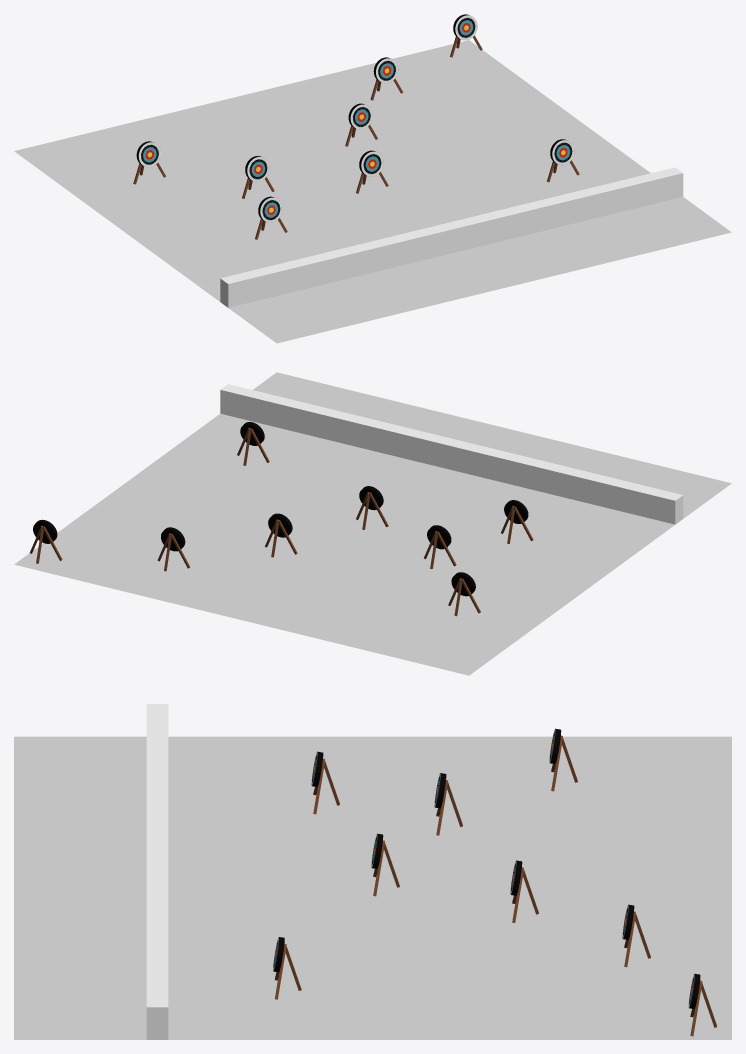
Rendered from range.gltf.
3 views of the same model, one above another, from view 1: azimuth 30°, elevation 25°; view 2: azimuth 150°, elevation 25°; view 3: azimuth 270°, elevation 25° (orthographic). The views are drawn at different scales.
Visible parts, largest first — view 1: ground, block, Target.006, Target.005, Target, Target.003, Target.001, Target.007, Target.004, Target.002; view 2: ground, block, Target.001, Target.004, Target, Target.002, Target.005, Target.006, Target.007, Target.003; view 3: ground, block, Target.005, Target.006, Target.002, Target, Target.001, Target.003, Target.004, Target.007.
Part boxes in pixels (<box>): ground: <box>14,40,731,343</box>; block: <box>220,167,683,307</box>; Target.006: <box>450,14,482,57</box>; Target.005: <box>370,57,403,100</box>; Target: <box>356,150,388,193</box>; Target.003: <box>255,196,287,239</box>; Target.001: <box>133,141,165,184</box>; Target.007: <box>547,139,579,182</box>; Target.004: <box>345,103,377,146</box>; Target.002: <box>242,156,274,198</box>; ground: <box>14,372,731,675</box>; block: <box>220,384,683,524</box>; Target.001: <box>448,572,480,616</box>; Target.004: <box>265,513,297,557</box>; Target: <box>356,486,388,529</box>; Target.002: <box>424,525,456,568</box>; Target.005: <box>157,527,189,571</box>; Target.006: <box>29,519,62,563</box>; Target.007: <box>237,422,269,465</box>; Target.003: <box>501,500,533,543</box>; ground: <box>14,736,731,1039</box>; block: <box>146,704,168,1039</box>; Target.005: <box>622,904,650,967</box>; Target.006: <box>688,973,716,1036</box>; Target.002: <box>434,773,462,835</box>; Target: <box>371,833,399,896</box>; Target.001: <box>549,728,577,791</box>; Target.003: <box>311,751,339,814</box>; Target.004: <box>510,860,538,922</box>; Target.007: <box>273,937,301,999</box>.
Size of the model in its own units: 20 by 1.63 by 20.
Materials: 5 (1 with a texture image).
